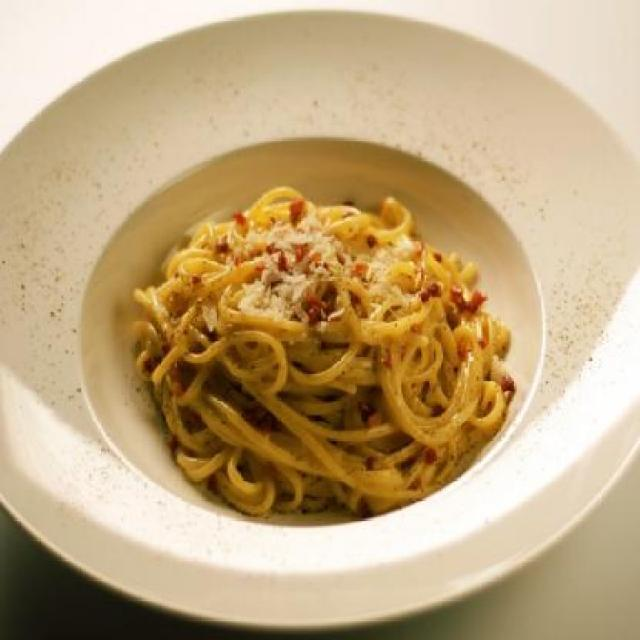Pasta with carbonara sauce: (79, 157, 596, 516)
